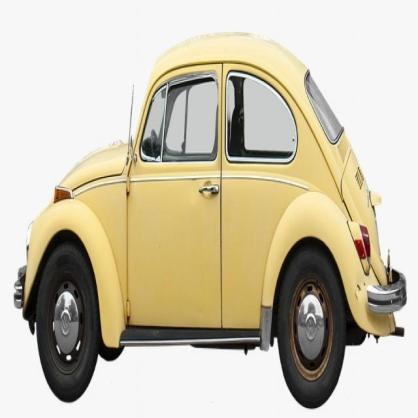car: (15, 31, 408, 409)
